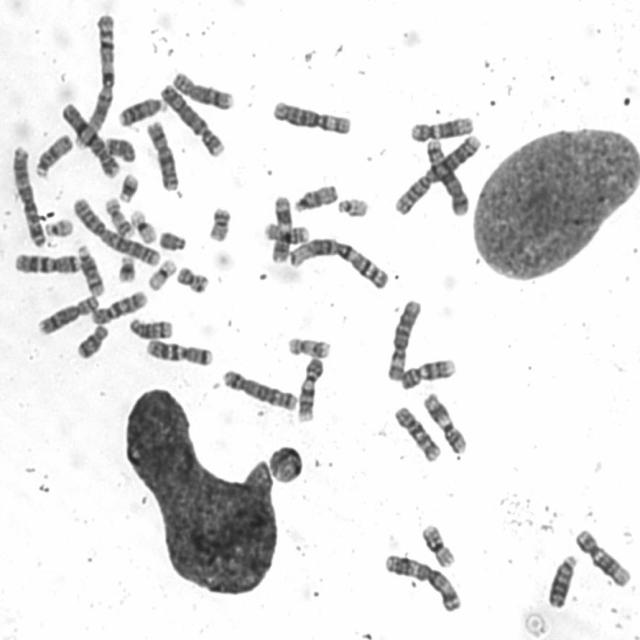A1: (71, 11, 118, 151), (286, 233, 391, 291)
A2: (391, 130, 482, 217), (70, 194, 161, 268)
A3: (381, 550, 463, 614), (9, 142, 47, 249)
B4: (158, 79, 226, 159), (58, 100, 121, 180)
B5: (423, 136, 470, 218), (219, 367, 299, 412)
C10: (391, 402, 442, 462), (88, 287, 148, 326)
C11: (421, 389, 468, 456), (267, 192, 293, 264)
C12: (573, 525, 632, 588), (408, 113, 476, 143)
C6: (384, 296, 424, 383), (270, 98, 353, 136)
C7: (143, 336, 214, 367), (13, 250, 80, 275)
C8: (34, 291, 100, 336), (170, 67, 236, 111)
C9: (398, 354, 456, 390), (295, 354, 325, 422)
D13: (544, 552, 580, 609), (116, 94, 167, 128)
D14: (75, 241, 106, 297), (126, 314, 174, 340)
D15: (32, 132, 74, 178), (291, 182, 340, 214)
E16: (417, 520, 457, 570), (261, 220, 312, 245)
E17: (103, 194, 134, 239), (284, 334, 333, 359)
E18: (74, 321, 110, 361), (102, 133, 137, 164)
F19: (144, 256, 178, 292), (128, 206, 158, 245)
F20: (174, 263, 210, 295), (206, 203, 233, 244)
G21: (116, 171, 140, 204), (115, 252, 138, 284)
G22: (334, 195, 370, 218), (43, 216, 75, 238)
X: (144, 118, 180, 192)
Y: (156, 228, 187, 252)
